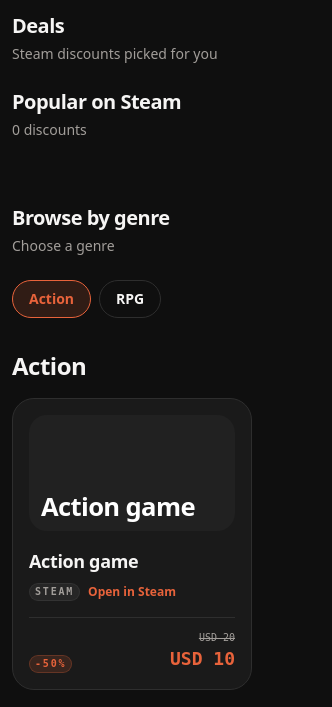
Test: DealsPage genre deals › displays canonical genre names while retaining lowercase filter keys
Check: the button "Action" is shown, box [12,280,91,318]
Step 1. Click the button "RPG" → (130, 299), box [99,280,161,318]
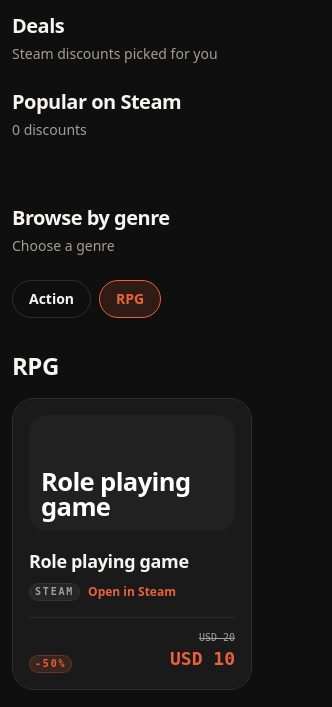
Check: the heading "RPG" is shown, box [12,349,59,382]
Check: the heading "Role playing game" is shown, box [29,549,189,573]
